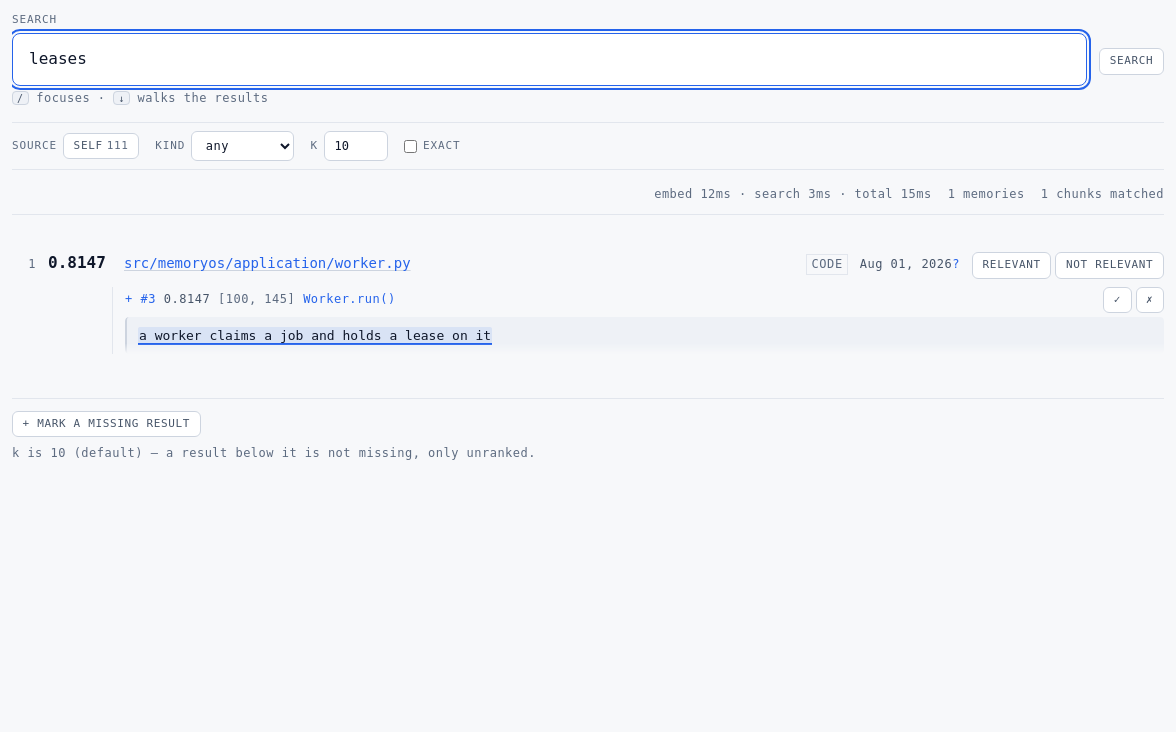
it: results › shows the neighbouring chunks when a chunk is expanded
Click the button "+ #3": (140, 299) [125, 291, 156, 308]
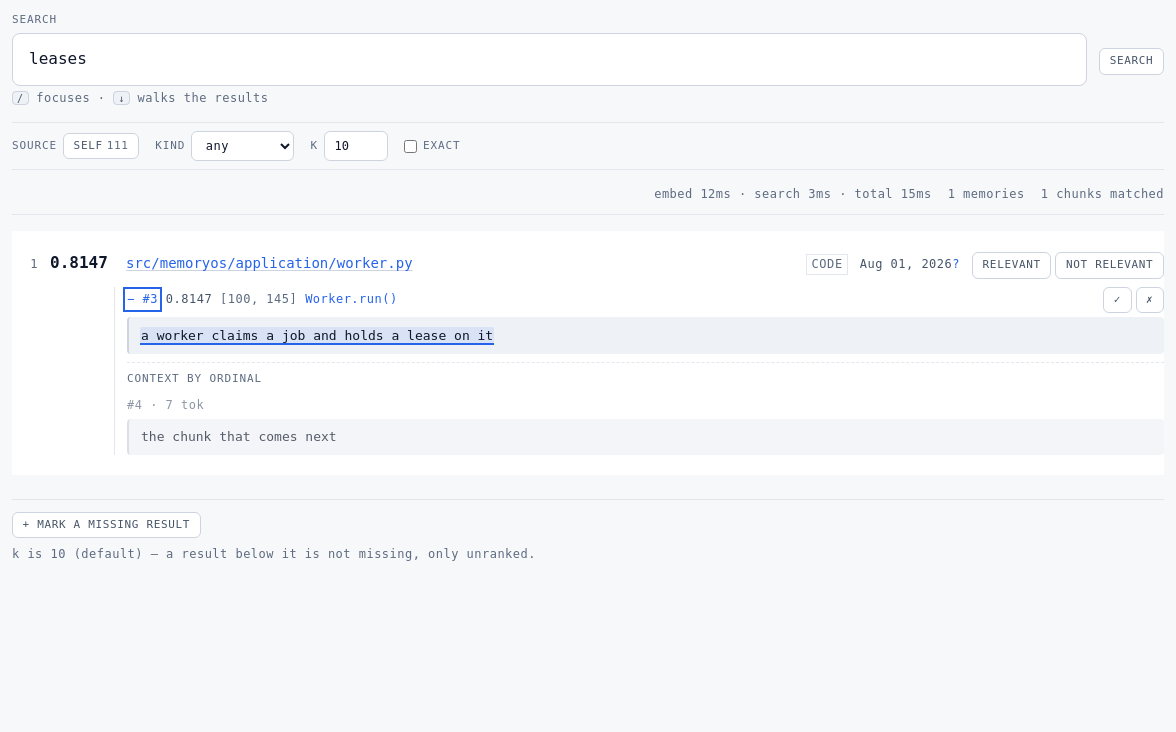
Expected: the text "the chunk that comes next" is shown, [127, 419, 1164, 455]
